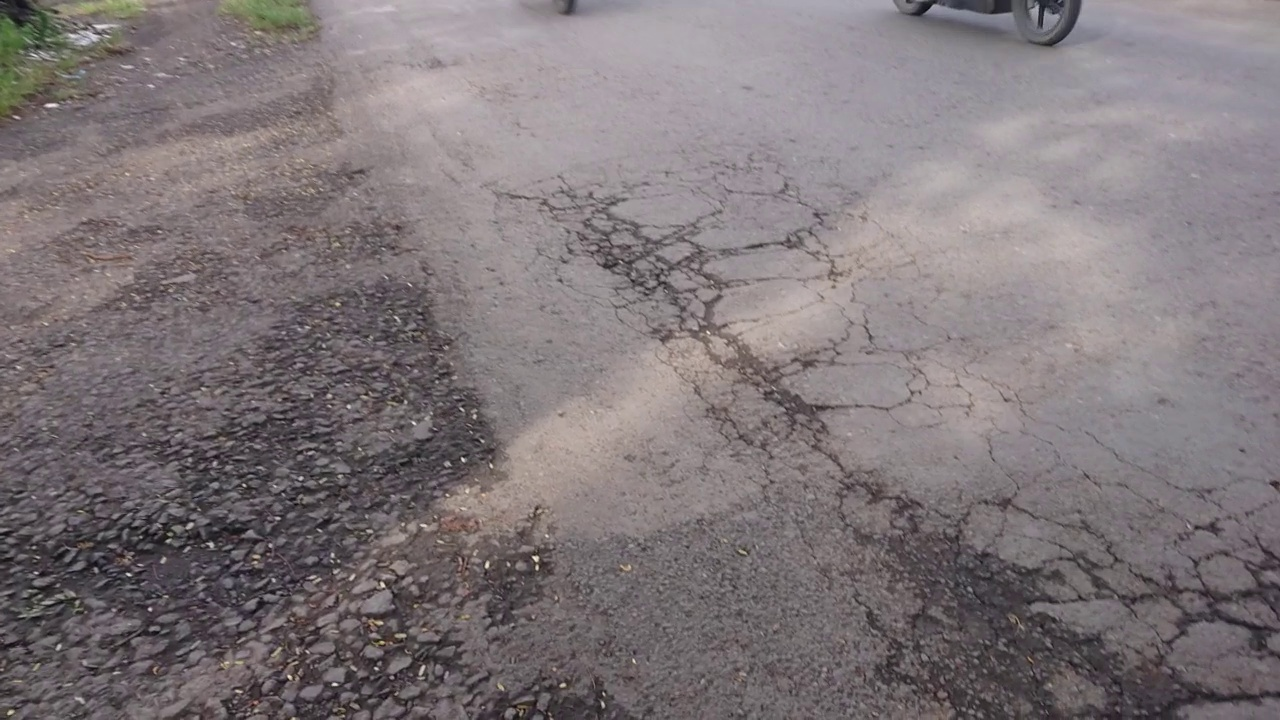Retak: (845, 470, 1280, 720), (554, 174, 886, 461)
